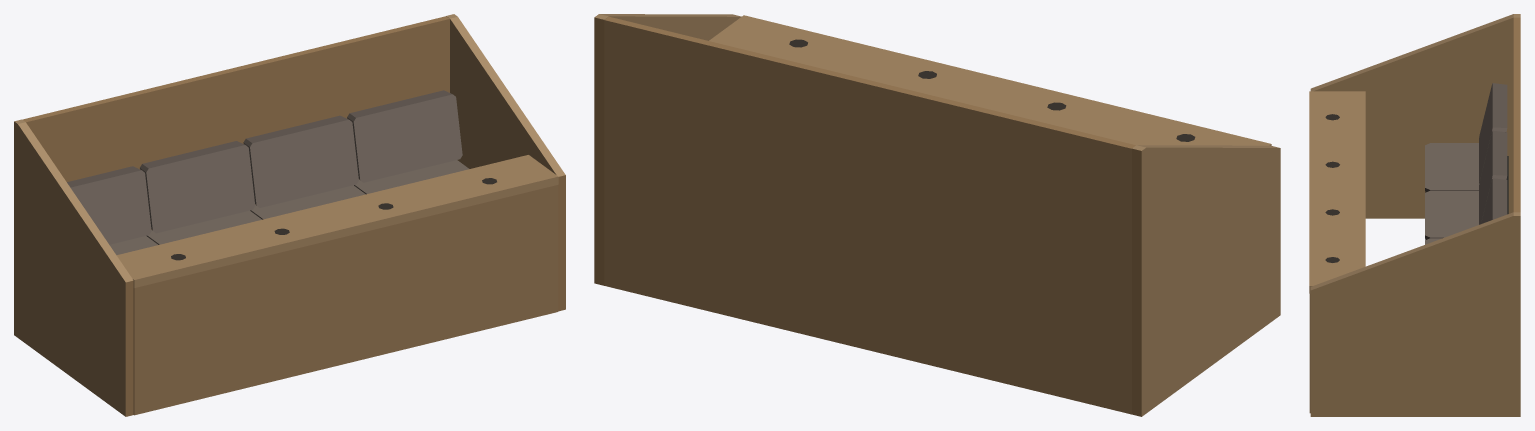
The model's file is tokyo-dome-sky-terrace.glb.
3 renders of one model, left to right at view 1: azimuth 30°, elevation 25°; view 2: azimuth 150°, elevation 25°; view 3: azimuth 270°, elevation 25°, orthographic. The views are drawn at different scales.
Parts seen in each view (by area): view 1: terrace-counter-and-dividers, terrace-bench; view 2: terrace-counter-and-dividers; view 3: terrace-counter-and-dividers, terrace-bench.
Boxes of the visible parts, x1,y1,x2,y2 form: terrace-counter-and-dividers: (14,14,565,416); terrace-bench: (67,90,469,255); terrace-counter-and-dividers: (594,14,1280,416); terrace-counter-and-dividers: (1309,14,1520,416); terrace-bench: (1425,83,1508,244).
Bounding box in the file's own units: 2.5 × 1.16 × 1.11.
